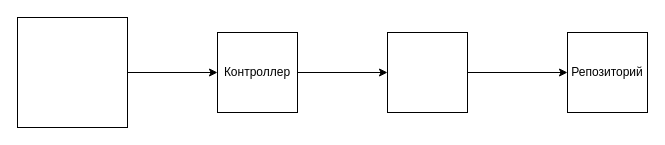
Some shapes in this 665 by 145 pixel diagram are drawn without their labels. Each missing label, with the box of its shape:
Представление: (16, 16, 128, 128)
Сервис: (386, 32, 468, 112)
